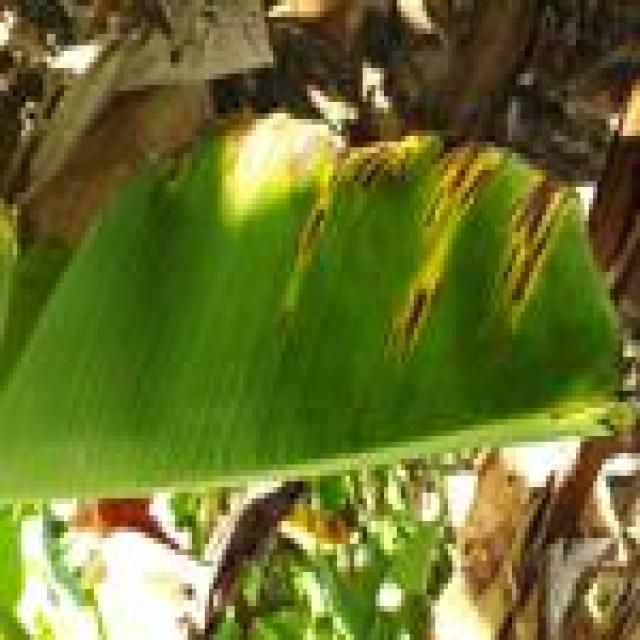Early_rust: (250, 96, 630, 410)
